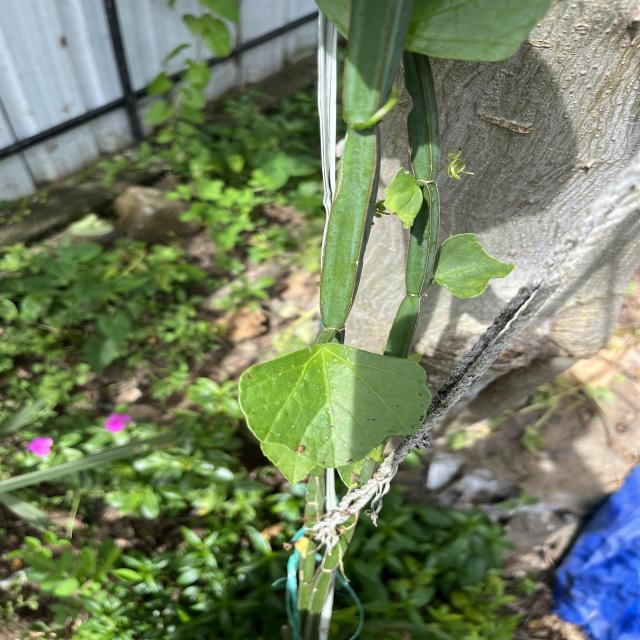Cissus quadrangularis: (235, 341, 434, 470)
